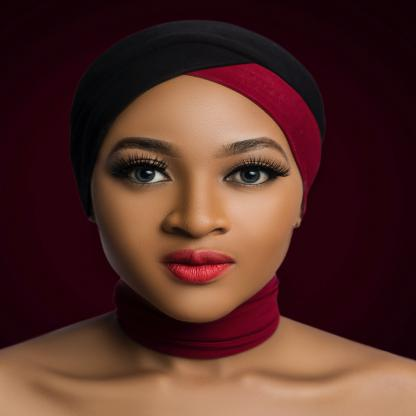Eye: (223, 155, 291, 191), (110, 153, 174, 190)
Mouth: (161, 243, 239, 288)
Nose: (163, 177, 232, 239)
